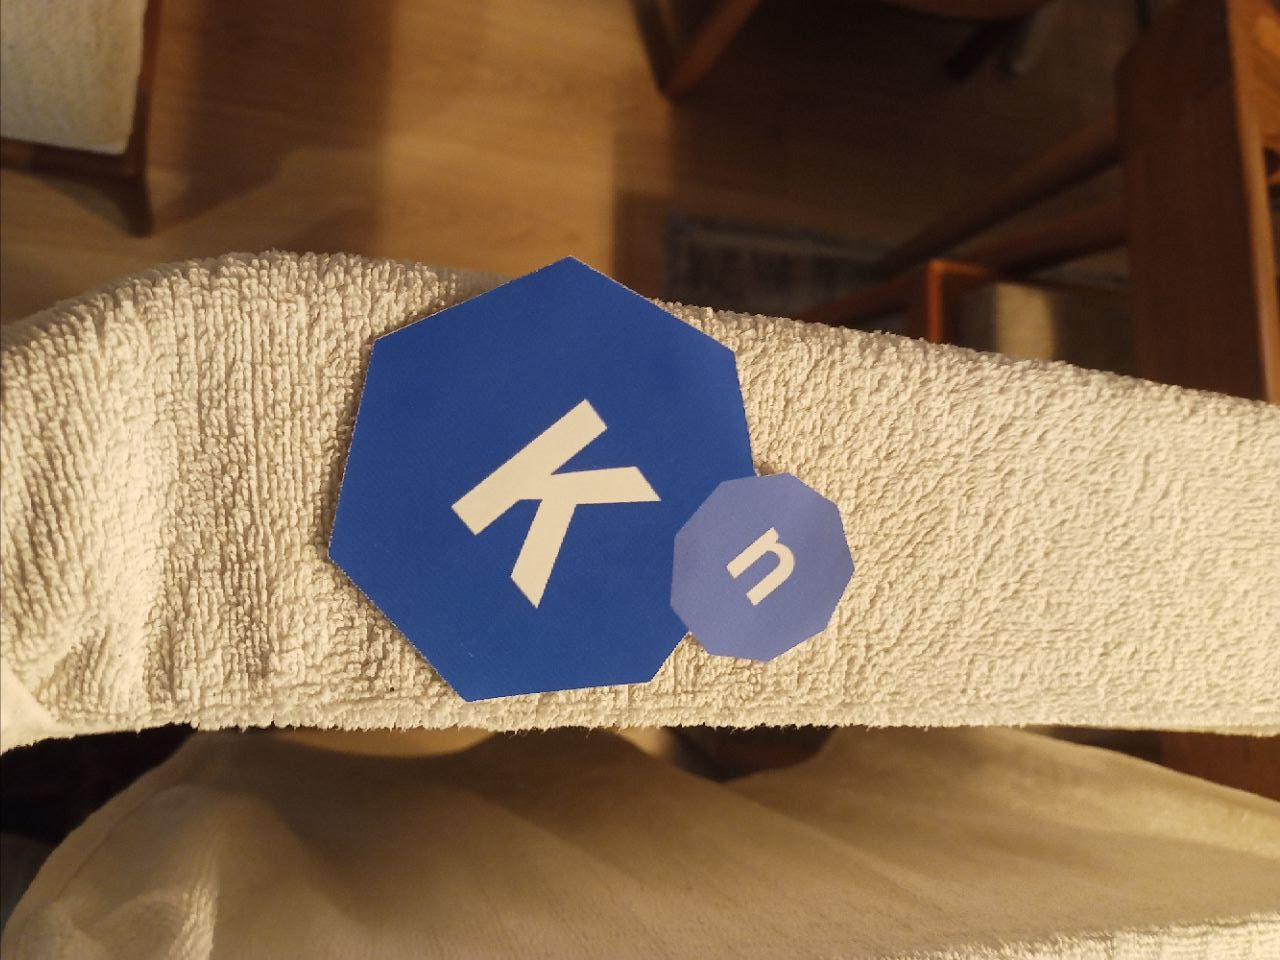knative: (324, 253, 857, 703)
